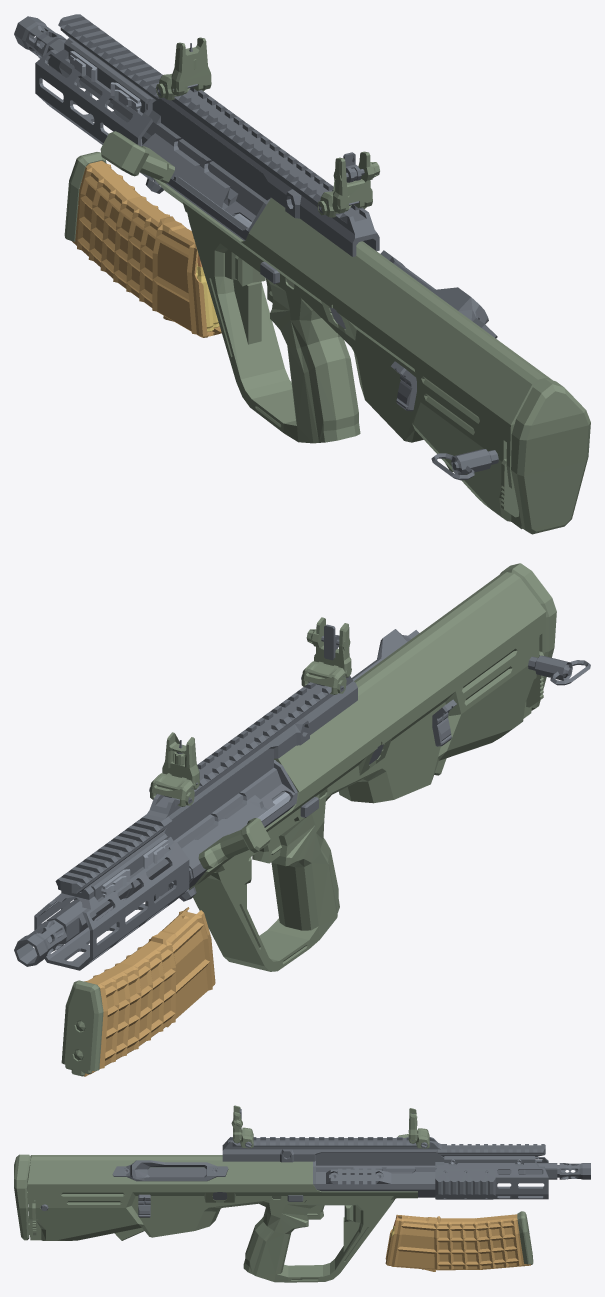
File: aug.glb
3 views of the same model, one above another, from view 1: azimuth 30°, elevation 25°; view 2: azimuth 150°, elevation 25°; view 3: azimuth 270°, elevation 25° (orthographic). The views are drawn at different scales.
Parts seen in each view (by area): view 1: aug4 body, aug4 receiver, 55645 aug 30rnd mag, aug4 stock, aug4 handguard, aug4 iron sights, aug4 reload hanlde, aug4 flash hider, aug4 barrel, aug4 mag release (front), aug4 L bolt release; view 2: aug4 body, aug4 receiver, 55645 aug 30rnd mag, aug4 handguard, aug4 iron sights, aug4 flash hider, aug4 reload hanlde, aug4 barrel, aug4 stock, aug4 L bolt release; view 3: aug4 body, aug4 receiver, 55645 aug 30rnd mag, aug4 handguard, aug4 iron sights, aug4 stock, aug4 flash hider, aug4 bolt, aug4 barrel, aug4 mag release (front).
Part boxes in pixels (bbox=[...]): aug4 body: bbox=[153, 178, 552, 529]; aug4 receiver: bbox=[58, 14, 379, 256]; 55645 aug 30rnd mag: bbox=[64, 152, 221, 337]; aug4 stock: bbox=[511, 378, 590, 534]; aug4 handguard: bbox=[35, 38, 154, 180]; aug4 iron sights: bbox=[156, 37, 379, 217]; aug4 reload hanlde: bbox=[100, 131, 178, 183]; aug4 flash hider: bbox=[14, 16, 83, 88]; aug4 barrel: bbox=[78, 77, 233, 186]; aug4 mag release (front): bbox=[225, 249, 265, 286]; aug4 L bolt release: bbox=[391, 361, 416, 411]; aug4 body: bbox=[189, 572, 590, 971]; aug4 receiver: bbox=[55, 676, 357, 901]; 55645 aug 30rnd mag: bbox=[61, 907, 215, 1076]; aug4 handguard: bbox=[34, 832, 189, 970]; aug4 iron sights: bbox=[149, 617, 351, 806]; aug4 flash hider: bbox=[14, 899, 96, 966]; aug4 reload hanlde: bbox=[198, 818, 270, 869]; aug4 barrel: bbox=[95, 793, 243, 918]; aug4 stock: bbox=[500, 563, 556, 710]; aug4 L bolt release: bbox=[432, 699, 456, 746]; aug4 body: bbox=[27, 1155, 417, 1282]; aug4 receiver: bbox=[205, 1137, 545, 1197]; 55645 aug 30rnd mag: bbox=[385, 1211, 533, 1271]; aug4 handguard: bbox=[435, 1156, 548, 1199]; aug4 iron sights: bbox=[231, 1105, 429, 1148]; aug4 stock: bbox=[14, 1154, 35, 1240]; aug4 flash hider: bbox=[525, 1163, 590, 1179]; aug4 bolt: bbox=[147, 1167, 205, 1176]; aug4 barrel: bbox=[353, 1165, 525, 1174]; aug4 mag release (front): bbox=[344, 1205, 360, 1222].
Size of the model in its own units: 0.1117 by 0.2532 by 0.79.
